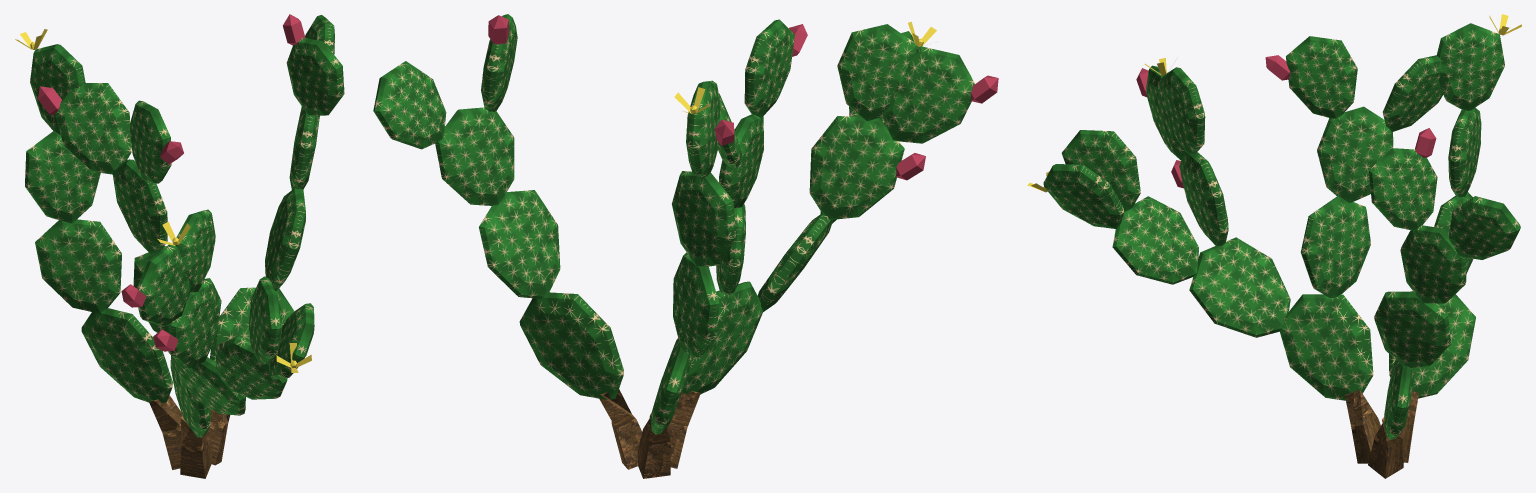
File: prickly_pear_v01_LOD1.glb
3 renders of one model, left to right at view 1: azimuth 30°, elevation 25°; view 2: azimuth 150°, elevation 25°; view 3: azimuth 270°, elevation 25°, orthographic. The views are drawn at different scales.
Visible parts, largest first — view 1: prickly_pear_v01_LOD1; view 2: prickly_pear_v01_LOD1; view 3: prickly_pear_v01_LOD1.
Part boxes in pixels (x1,y1,x2,y2): prickly_pear_v01_LOD1: (15,14,344,478); prickly_pear_v01_LOD1: (373,14,998,478); prickly_pear_v01_LOD1: (1027,14,1521,478).
Bounding box in the file's own units: 0.6301 × 0.65 × 0.724.
4 materials, 2 textured.
